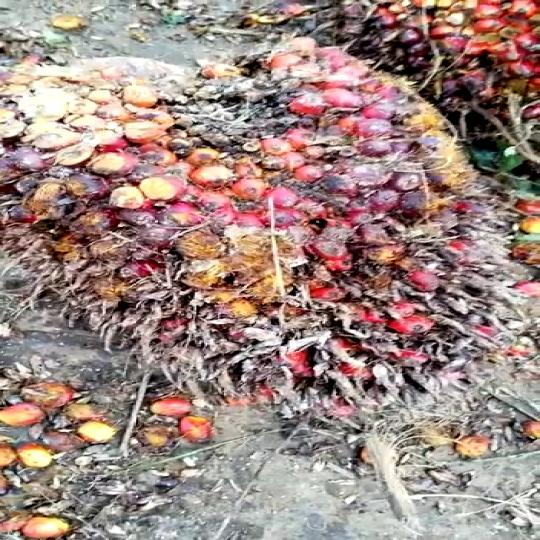masak: (0, 29, 540, 413)
